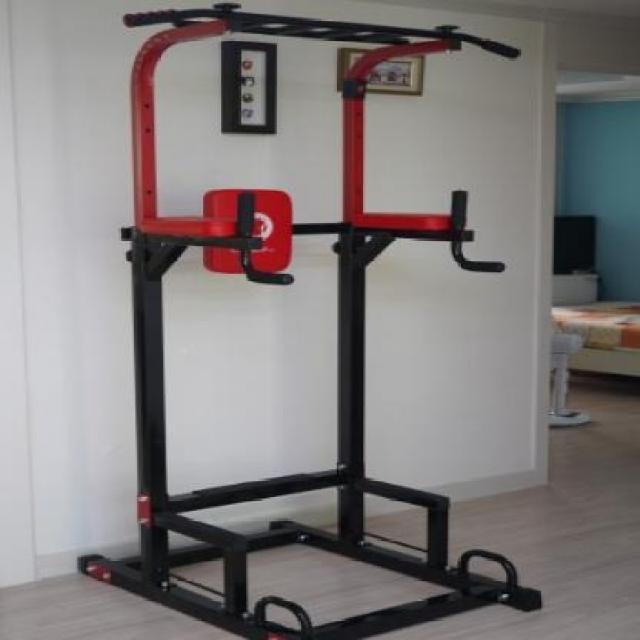chinning dipping: (82, 0, 544, 640)
